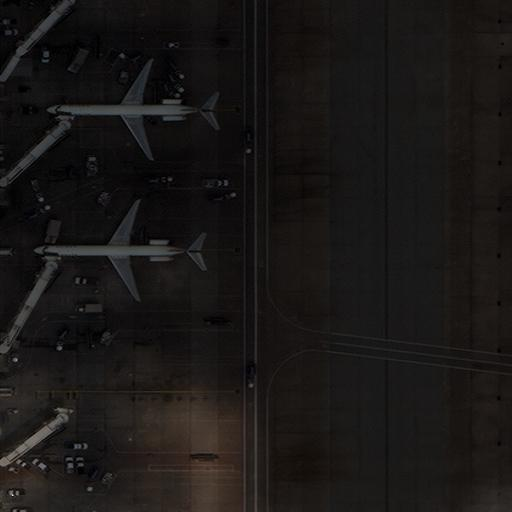Medium Civil Transport: (41, 61, 219, 160), (29, 200, 203, 300)
